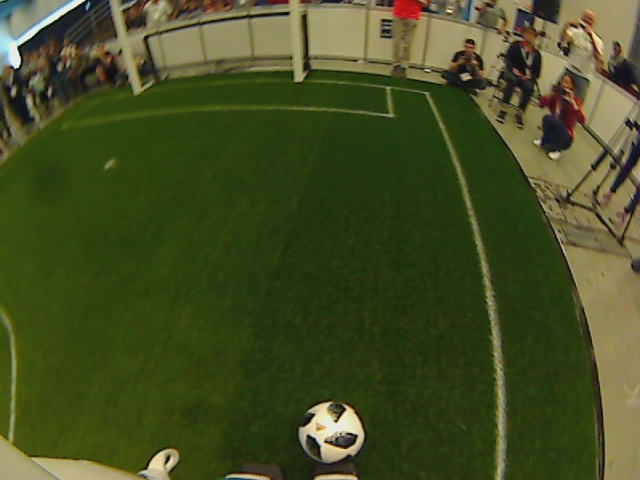ball: (296, 399, 367, 465)
